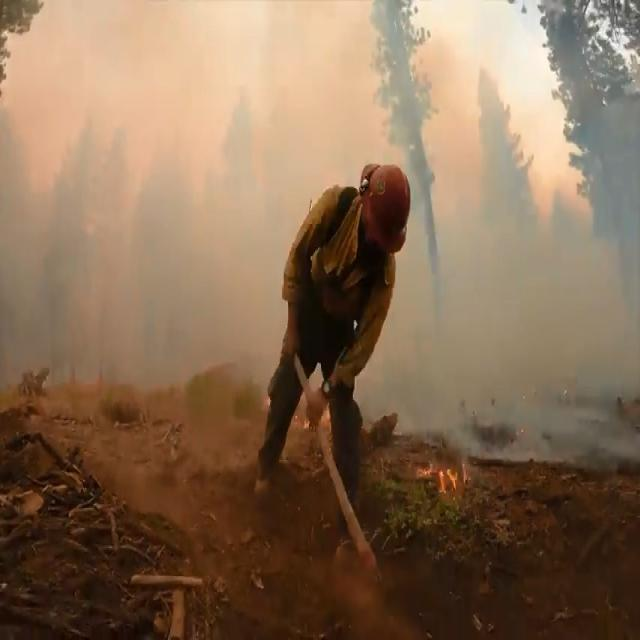Fire: (414, 442, 472, 506)
